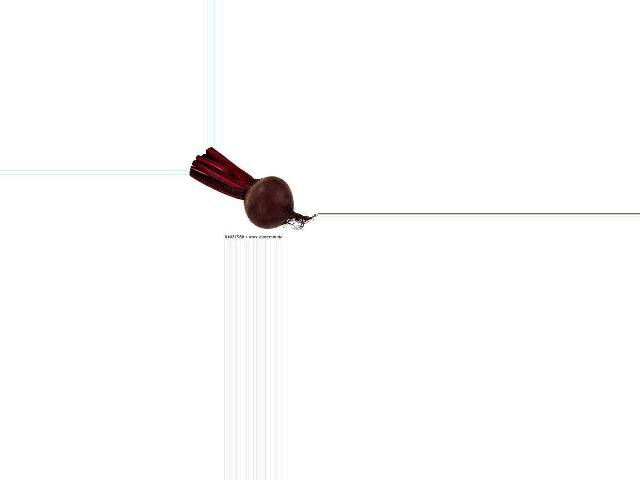beet: (189, 148, 315, 228)
